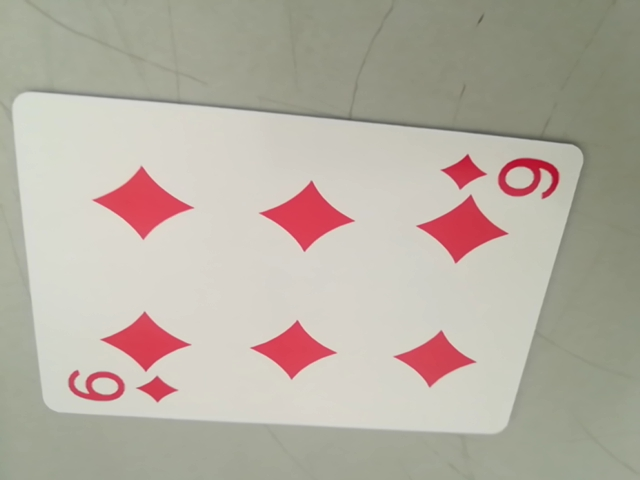fk 6: (439, 149, 562, 199), (59, 363, 181, 410)
